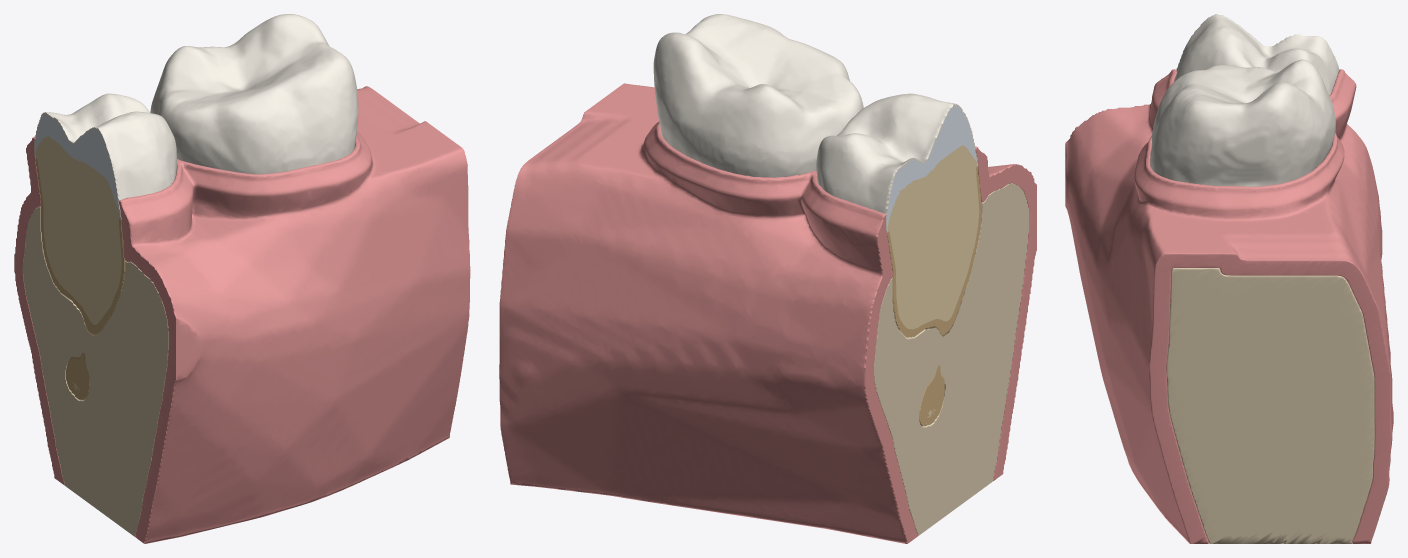
File: sound-whole.glb
3 views of the same model, side by side, from view 1: azimuth 30°, elevation 25°; view 2: azimuth 150°, elevation 25°; view 3: azimuth 270°, elevation 25° (orthographic). The views are drawn at different scales.
Visible parts, largest first — view 1: gum, teeth (×2), bone; view 2: gum, teeth (×2), bone; view 3: gum, bone, teeth (×2).
Boxes of the visible parts, x1,y1,x2,y2 form: gum: (14, 86, 470, 543); teeth (×2): (34, 14, 358, 400); bone: (22, 206, 168, 536); gum: (499, 83, 1036, 543); teeth (×2): (653, 14, 981, 426); bone: (873, 183, 1028, 535); gum: (1065, 69, 1393, 543); bone: (1166, 268, 1374, 543); teeth (×2): (1150, 14, 1339, 186).
Size of the model in its own units: 23.45 by 27.66 by 20.36.
